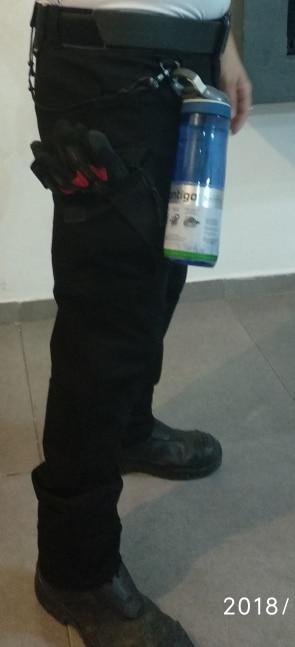pants: (24, 3, 229, 647)
